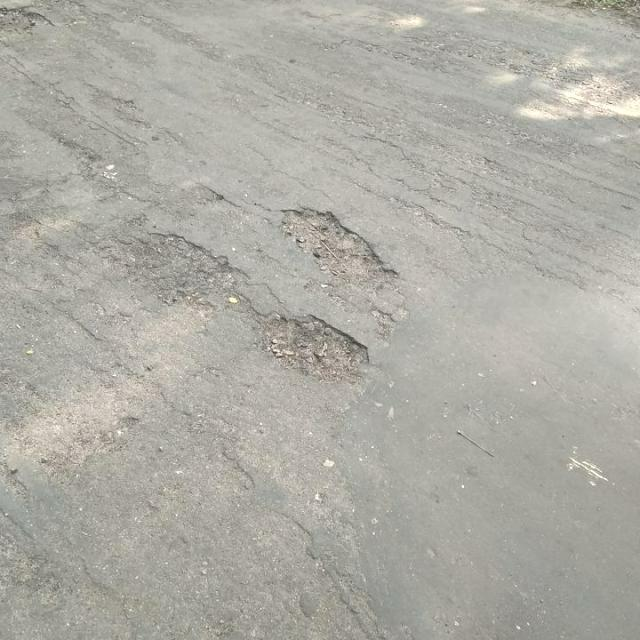Pothole: (276, 201, 404, 292), (118, 228, 257, 310), (259, 309, 375, 388)
